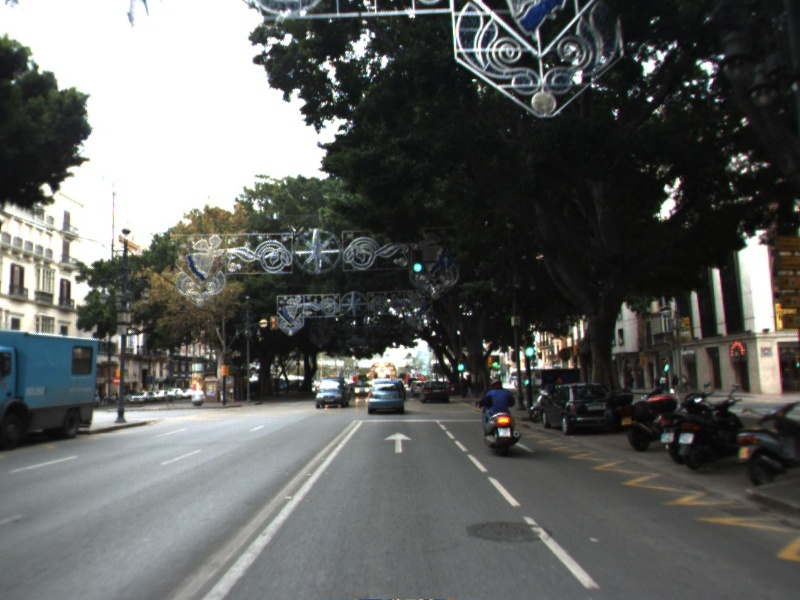STRAIGHT: (382, 430, 414, 455)
